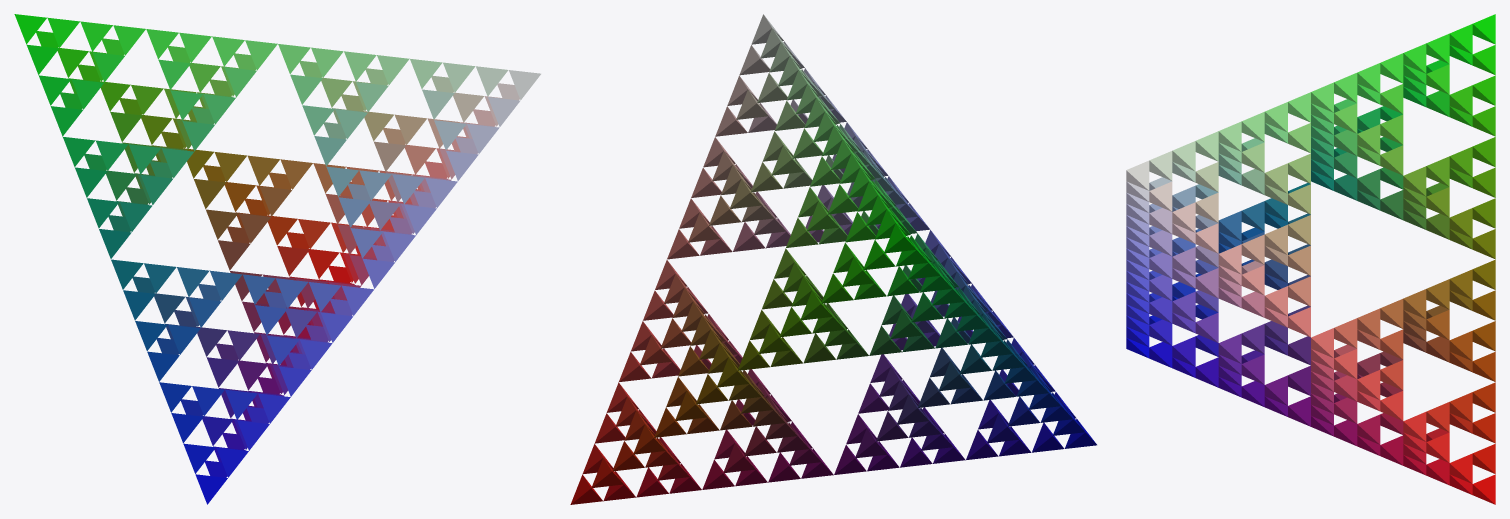
File: sier.obj
3 views of the same model, side by side, from view 1: azimuth 30°, elevation 25°; view 2: azimuth 150°, elevation 25°; view 3: azimuth 270°, elevation 25° (orthographic). The views are drawn at different scales.
Size of the model in its own units: 1 by 1 by 1.
